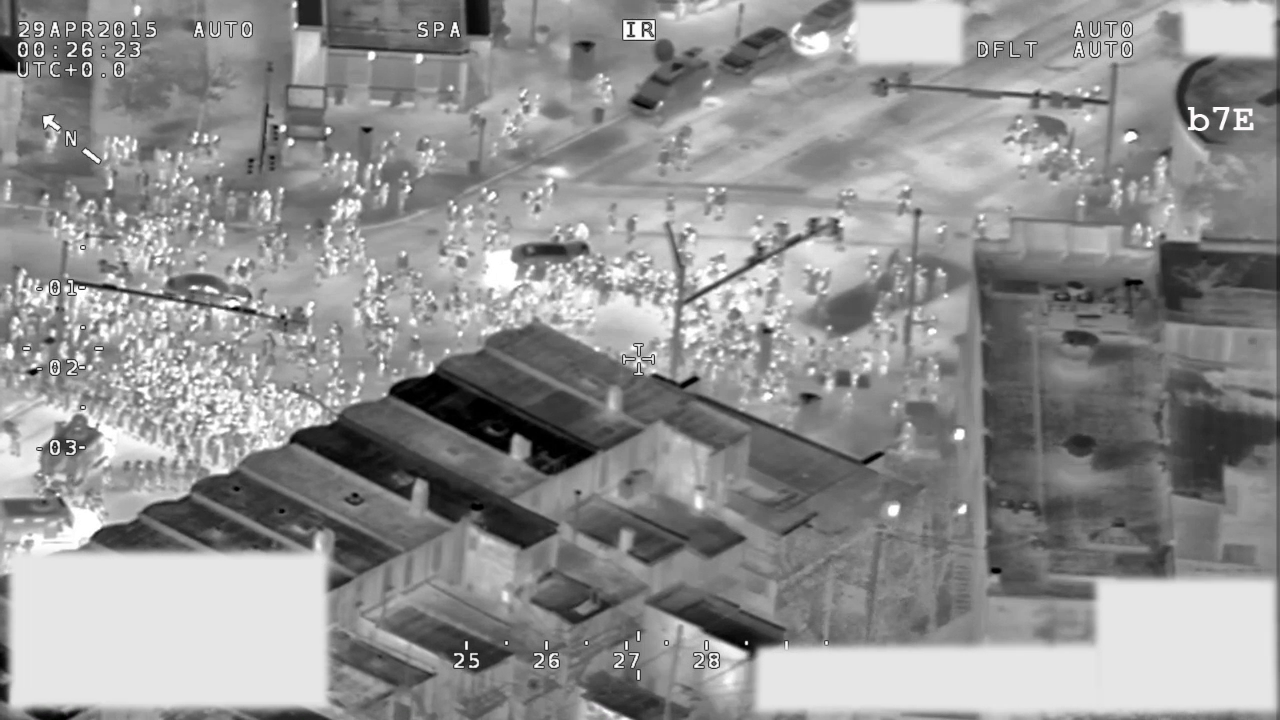vehicle: (627, 34, 718, 130), (476, 234, 601, 291), (1, 493, 108, 551), (31, 411, 109, 482), (157, 266, 257, 318), (715, 22, 793, 84), (789, 1, 856, 62)
